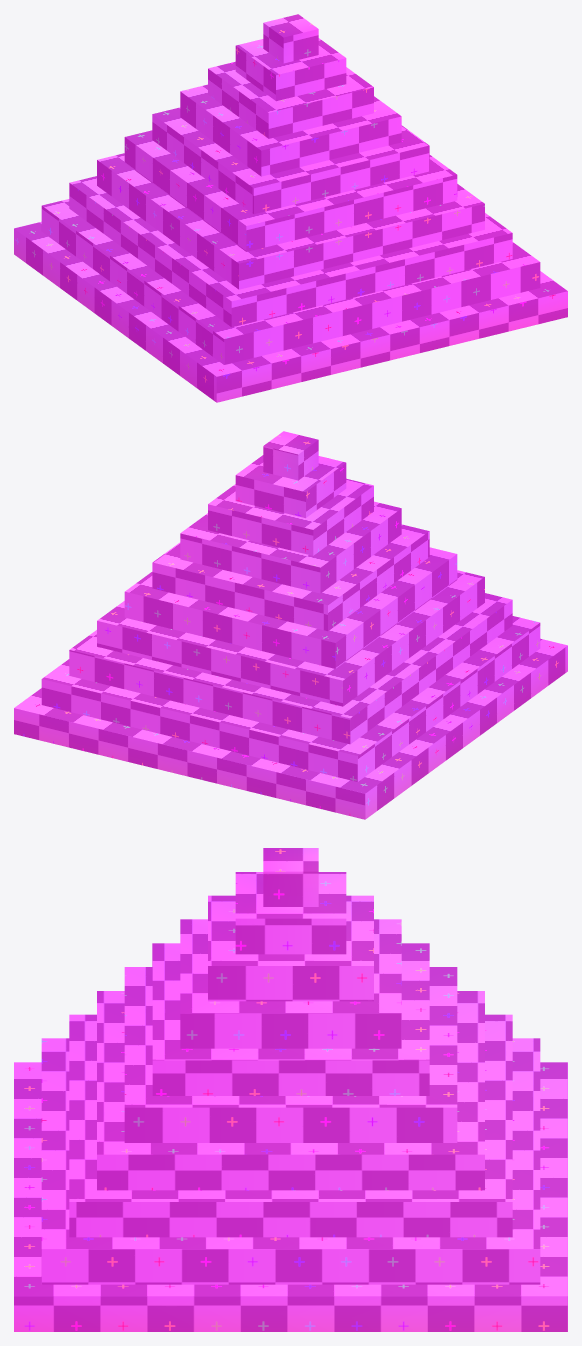
The picture shows the model from 3 angles, top to bottom: view 1: azimuth 30°, elevation 25°; view 2: azimuth 150°, elevation 25°; view 3: azimuth 270°, elevation 25°; orthographic projection. The views are drawn at different scales.
Visible parts, largest first — view 1: Pyramid; view 2: Pyramid; view 3: Pyramid.
Boxes of the visible parts, box(x1,y1,x2,y2) form: Pyramid: box(14, 14, 567, 402); Pyramid: box(14, 431, 567, 819); Pyramid: box(14, 848, 567, 1331).
Bounding box in the file's own units: 1.41 × 1 × 1.41.
1 material, 1 textured.
